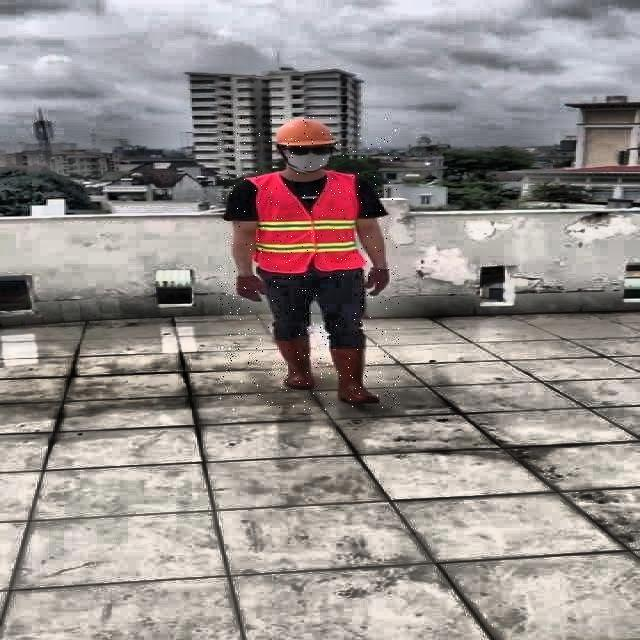safety_helmet: (270, 118, 338, 148)
safety_jacket: (249, 174, 370, 273)
